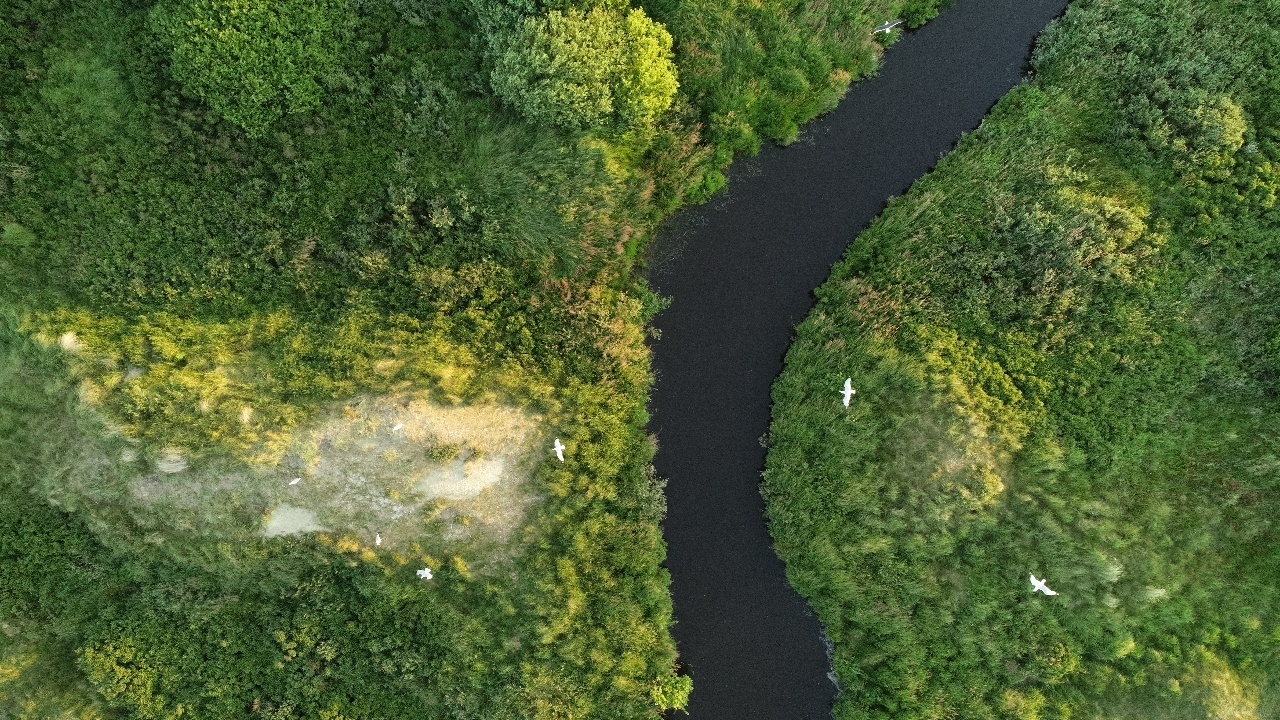Bird: (865, 10, 909, 41), (831, 373, 864, 411), (1023, 570, 1057, 601), (279, 469, 310, 496), (387, 412, 418, 439), (363, 527, 394, 554), (407, 560, 438, 587), (543, 436, 574, 463)
